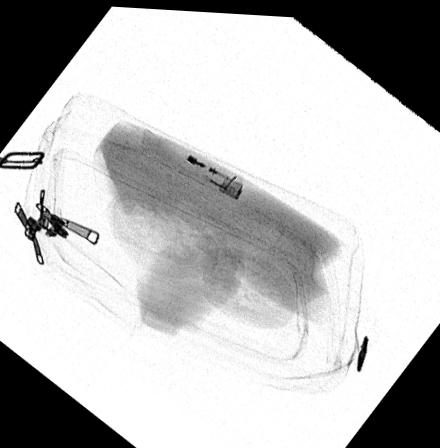Lighter: (138, 124, 244, 199)
